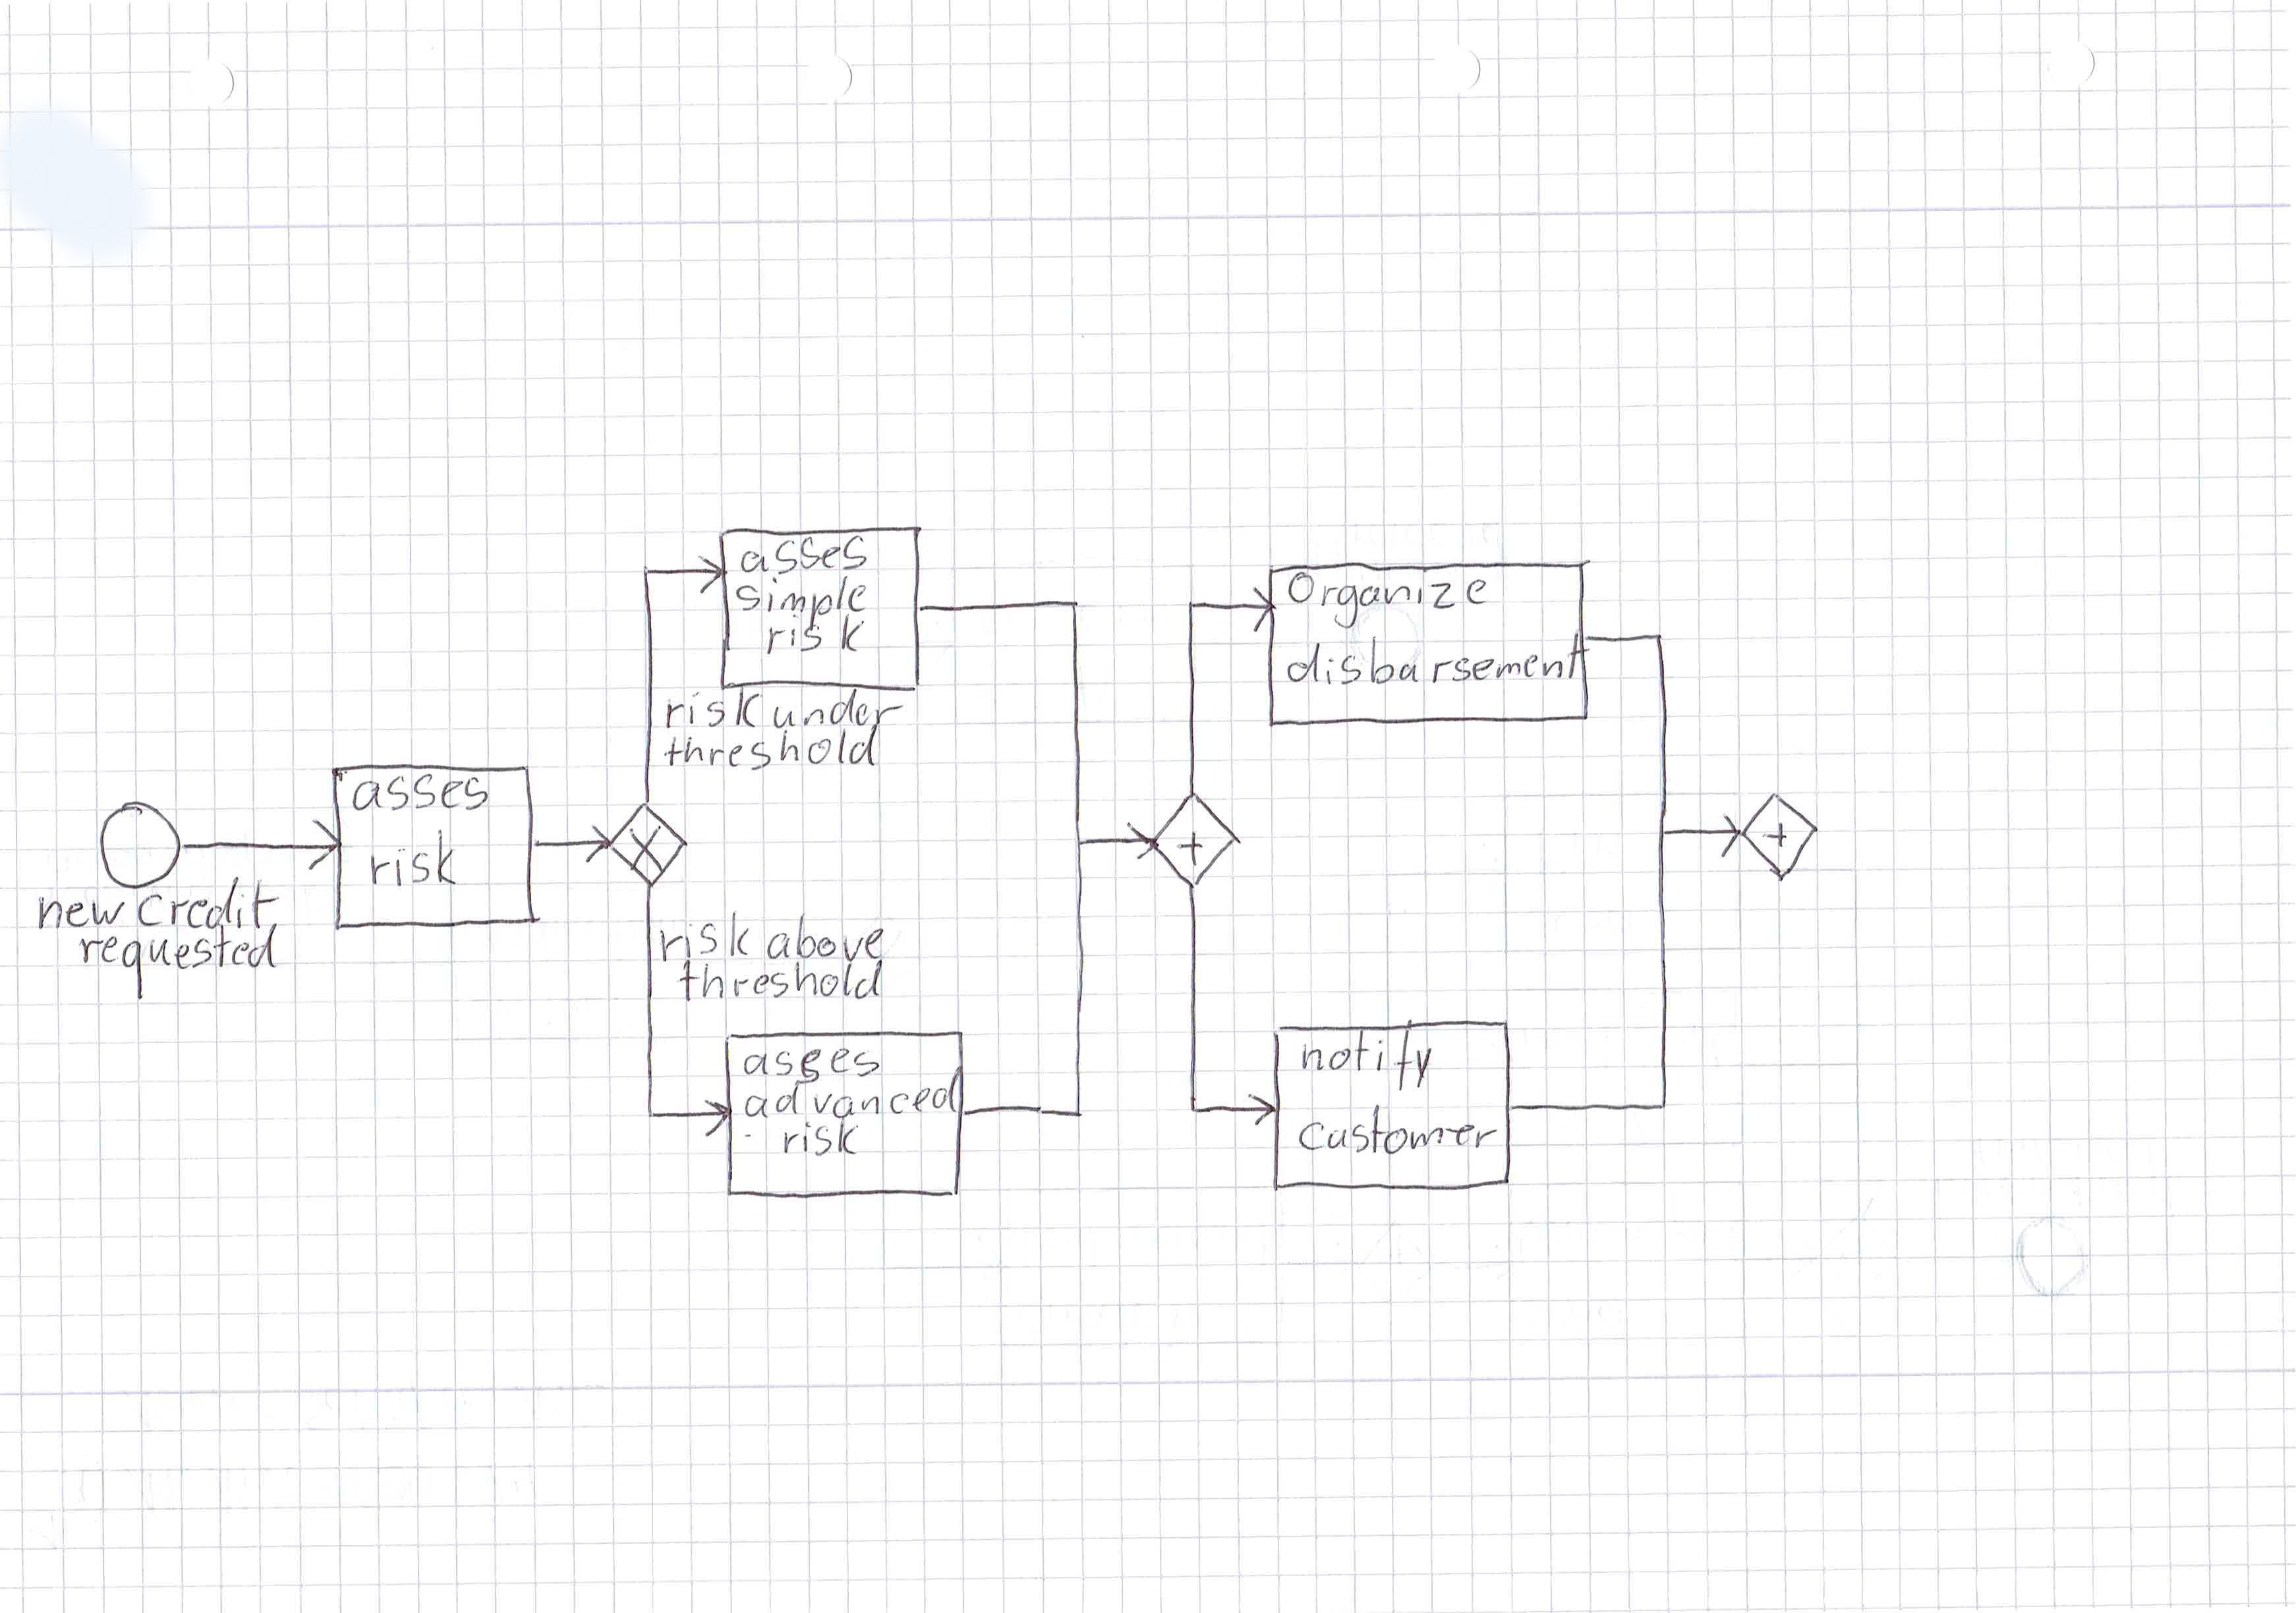Organize: (1283, 562, 1493, 632)
above: (761, 908, 889, 965)
advanced: (739, 1061, 966, 1122)
asses: (735, 532, 873, 581), (739, 1044, 885, 1088), (349, 772, 492, 815)
credit: (133, 873, 285, 932)
customer: (1294, 1100, 1503, 1157)
disbursement: (1280, 625, 1594, 690)
new: (33, 890, 129, 934)
notify: (1297, 1016, 1435, 1095)
requested: (75, 918, 281, 1004)
risk: (363, 826, 463, 892), (655, 906, 753, 965), (662, 681, 768, 733), (763, 611, 866, 658), (777, 1114, 863, 1161)
simple: (732, 573, 871, 634)
threshold: (660, 721, 882, 775), (674, 957, 885, 1006)
under: (768, 684, 910, 733)
